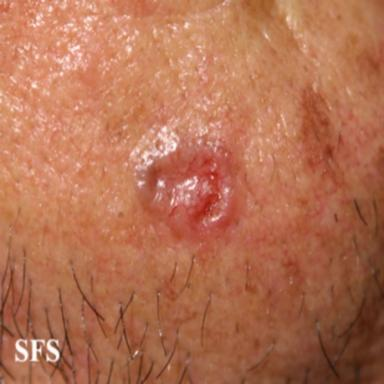basal-cell-carcinoma: (135, 126, 246, 245)
